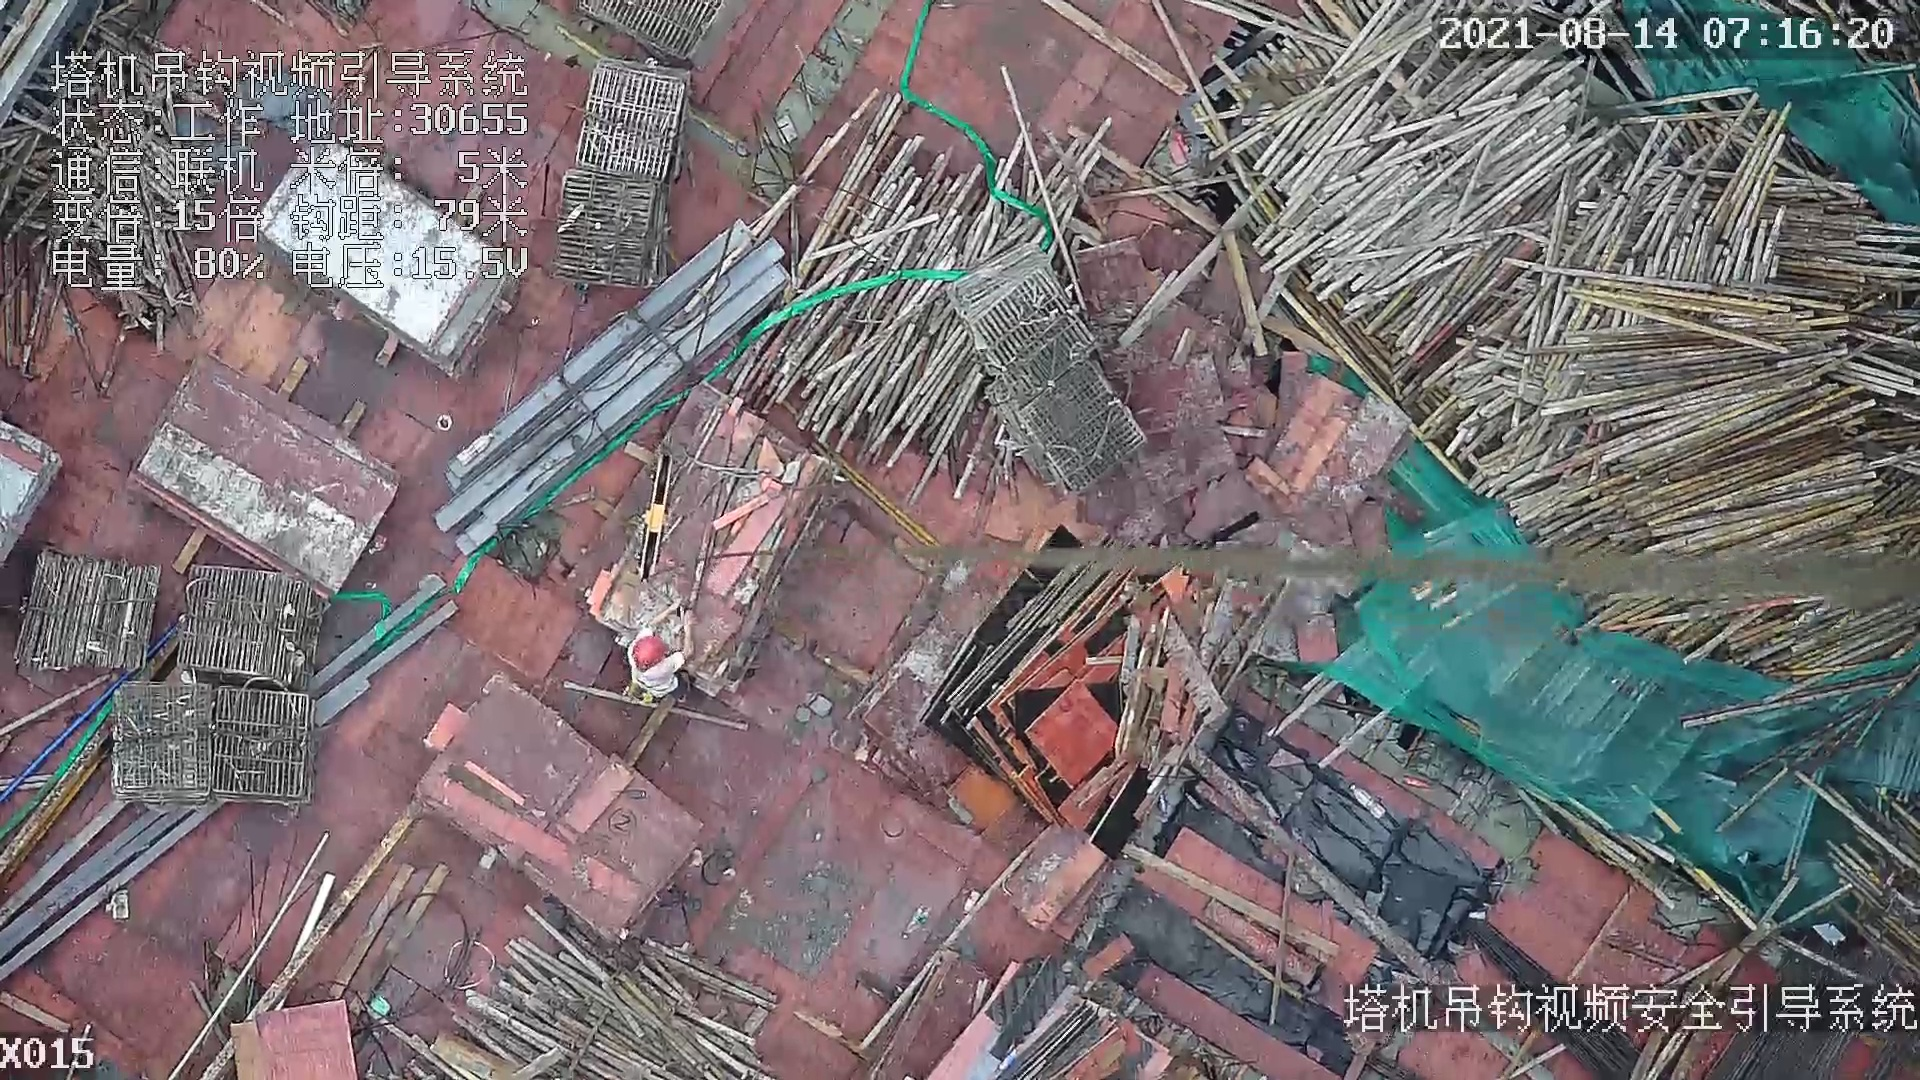helmet: (630, 632, 670, 679)
hook: (632, 449, 677, 589)
person: (627, 599, 704, 708)
